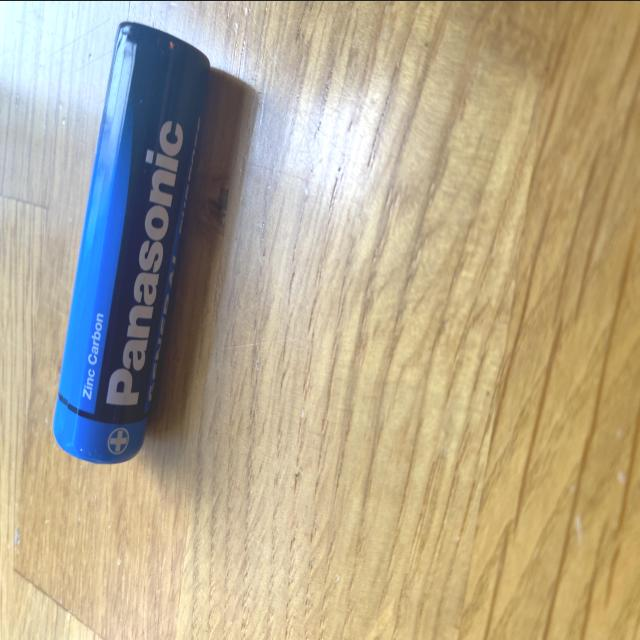AA: (50, 15, 214, 467)
